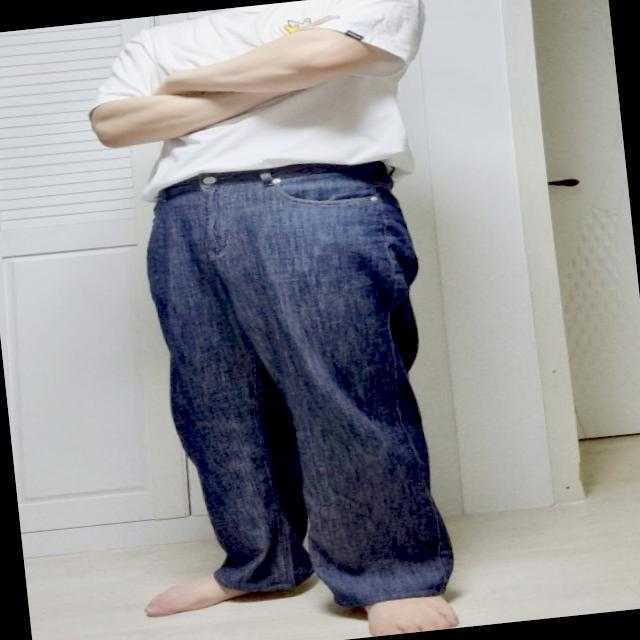denimpants: (125, 148, 454, 626)
shortsleeve: (76, 0, 440, 207)
